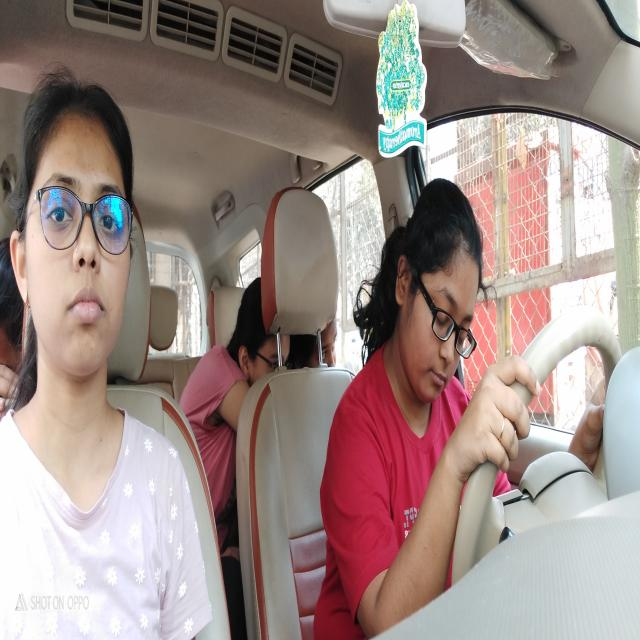drowsy: (389, 171, 486, 407)
person: (6, 34, 148, 396), (239, 259, 297, 421), (307, 318, 344, 385)
